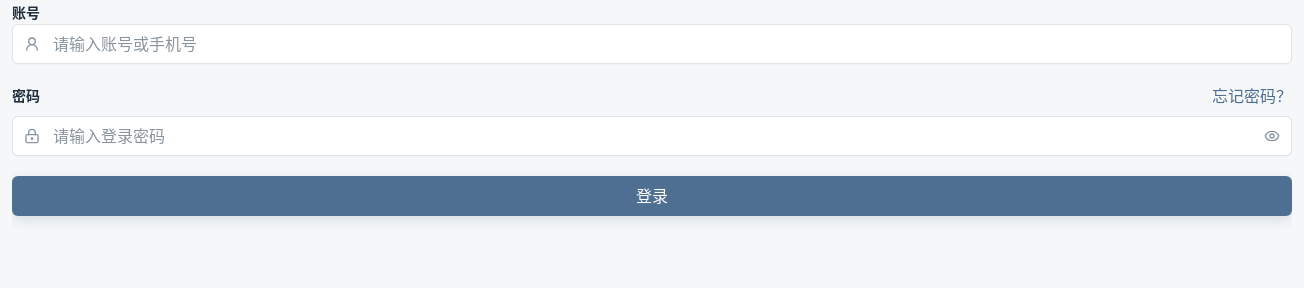
LoginForm › shows field guidance when an empty form is submitted
What coordinates should you click on to do the following:
click the button "登录"
I would click on:
 (652, 196)
Its box is [12, 176, 1292, 216].
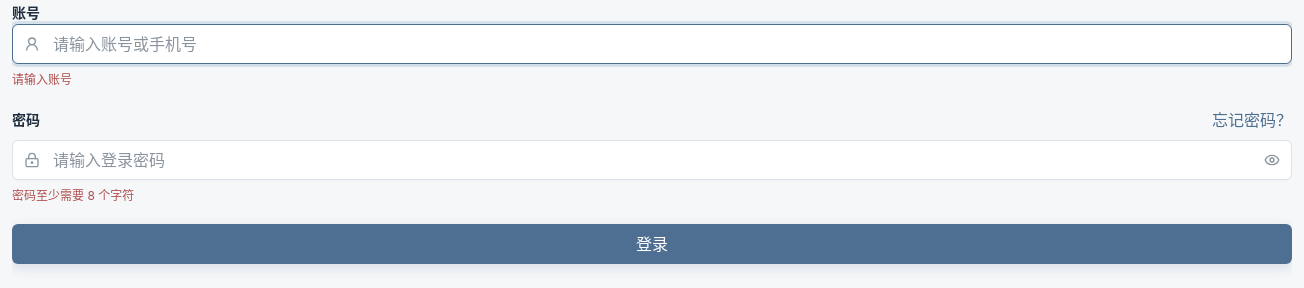
Now the text "请输入账号" is shown, box [12, 72, 72, 87]
Now the text "密码至少需要 8 个字符" is shown, box [12, 188, 134, 203]
